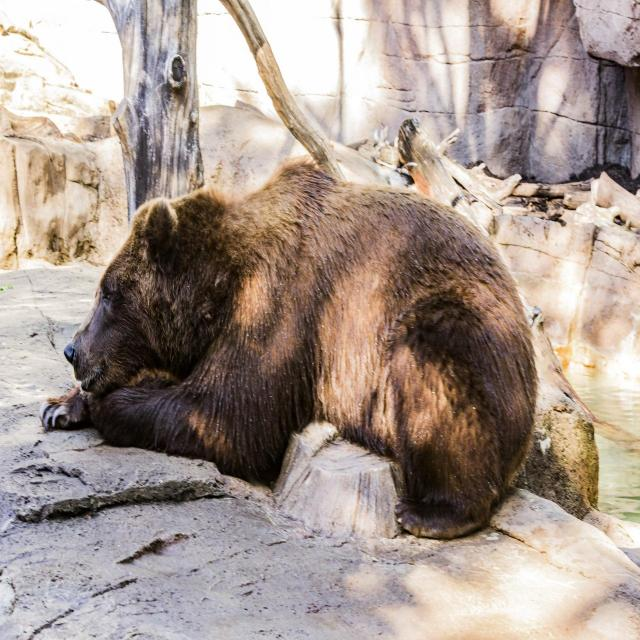Bear: (39, 163, 542, 544)
